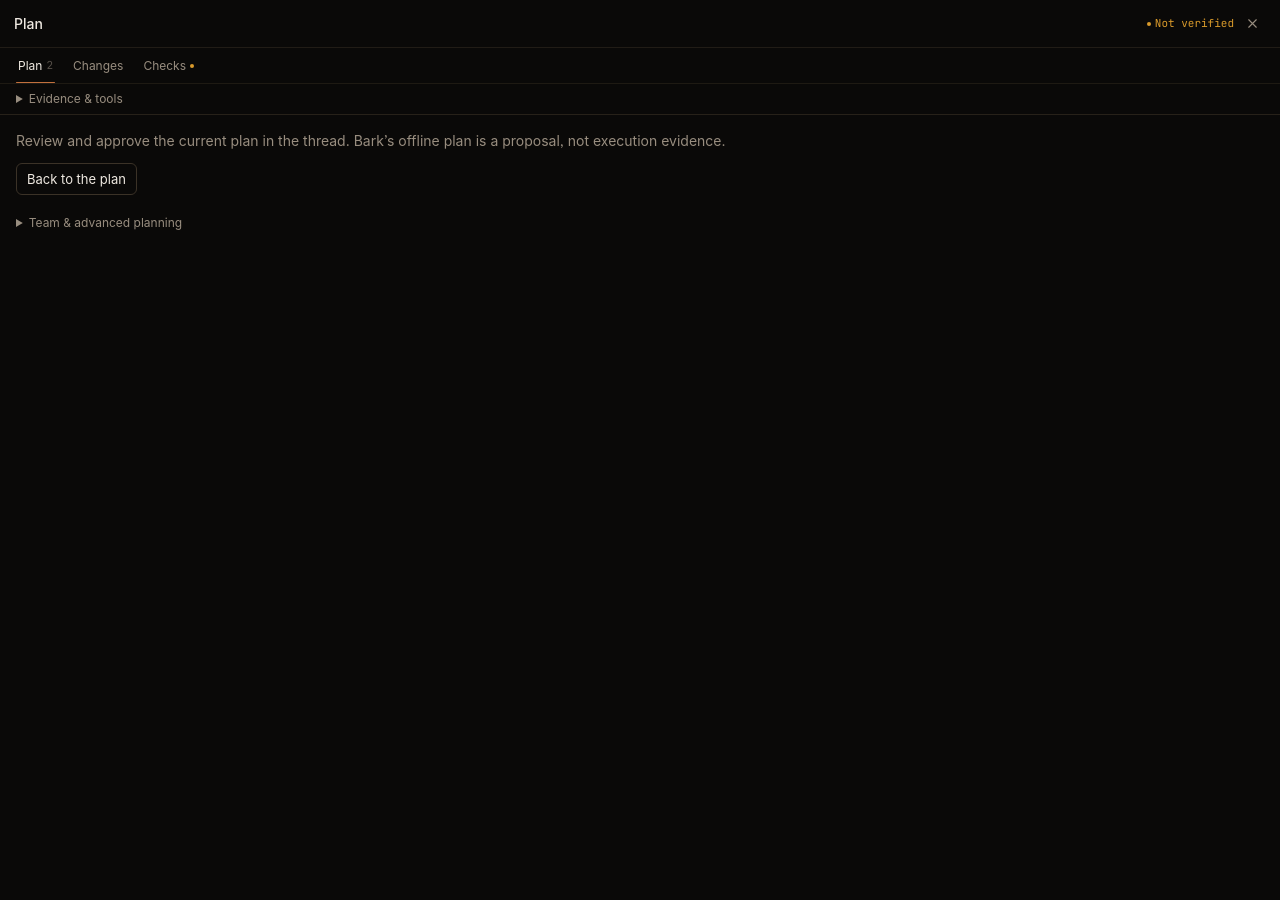
Test case: InspectorPane › keeps the plan in the thread and reports truthful check state
Expected: the text "Review and approve the current plan in the thread" is shown, [16, 132, 726, 149]
Click the heading "Team & advanced planning" at point(105, 222), box [29, 215, 182, 230]
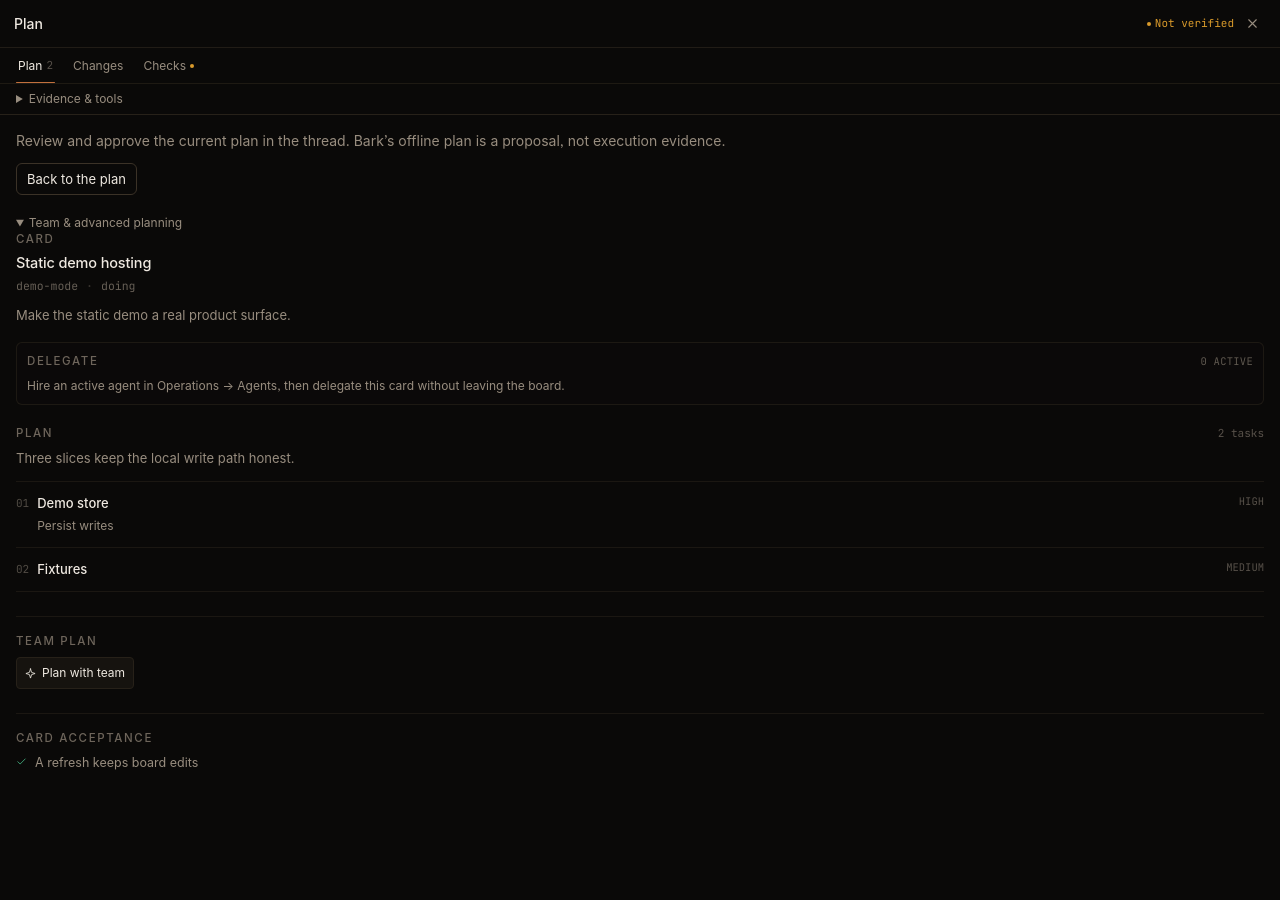
Expected: the text "Three slices keep the local write path honest." is shown, [16, 450, 294, 466]
Expected: the text "Demo store" is shown, [37, 495, 109, 511]
Expected: the list item "A refresh keeps board edits" is shown, [16, 755, 198, 770]
Click the tab "Checks" at point(169, 66), box [133, 48, 204, 83]
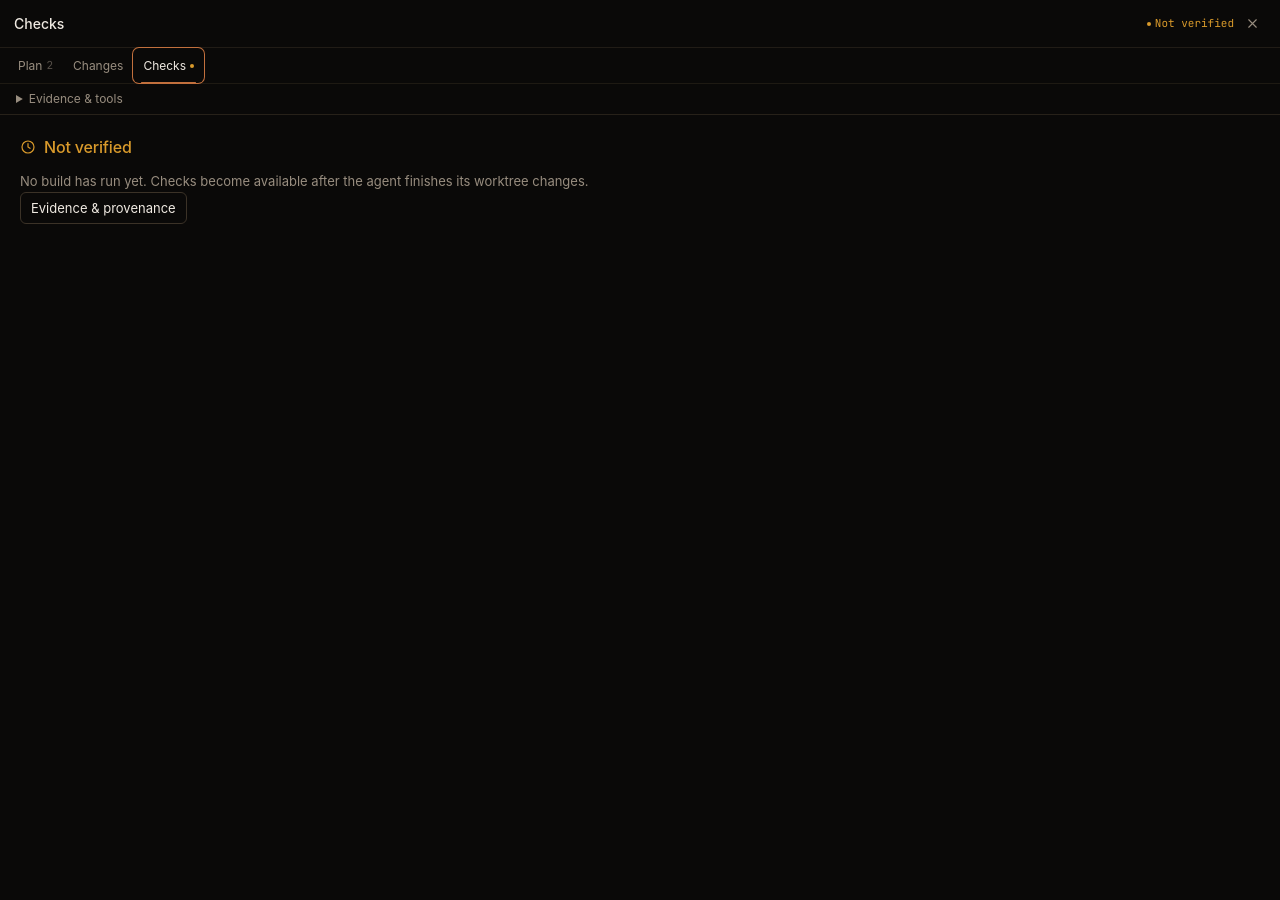
Expected: the heading "Not verified" is shown, [20, 137, 132, 157]
Expected: the text "No build has run yet. Checks become available" is shown, [20, 173, 588, 189]
